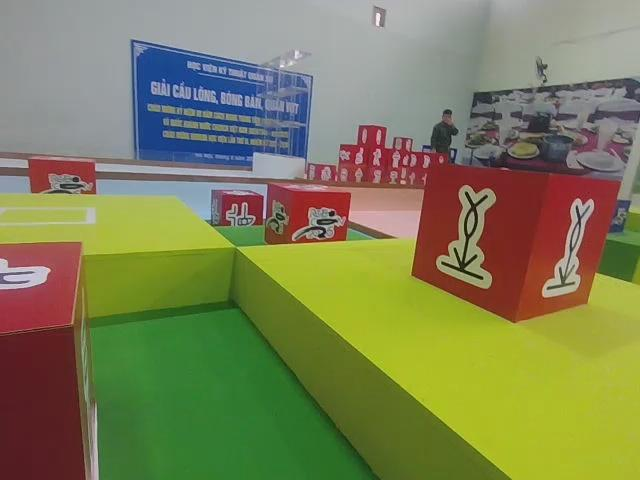R1: (262, 178, 353, 246), (23, 151, 100, 202)
R2 Real: (410, 158, 623, 328), (207, 186, 265, 234)
